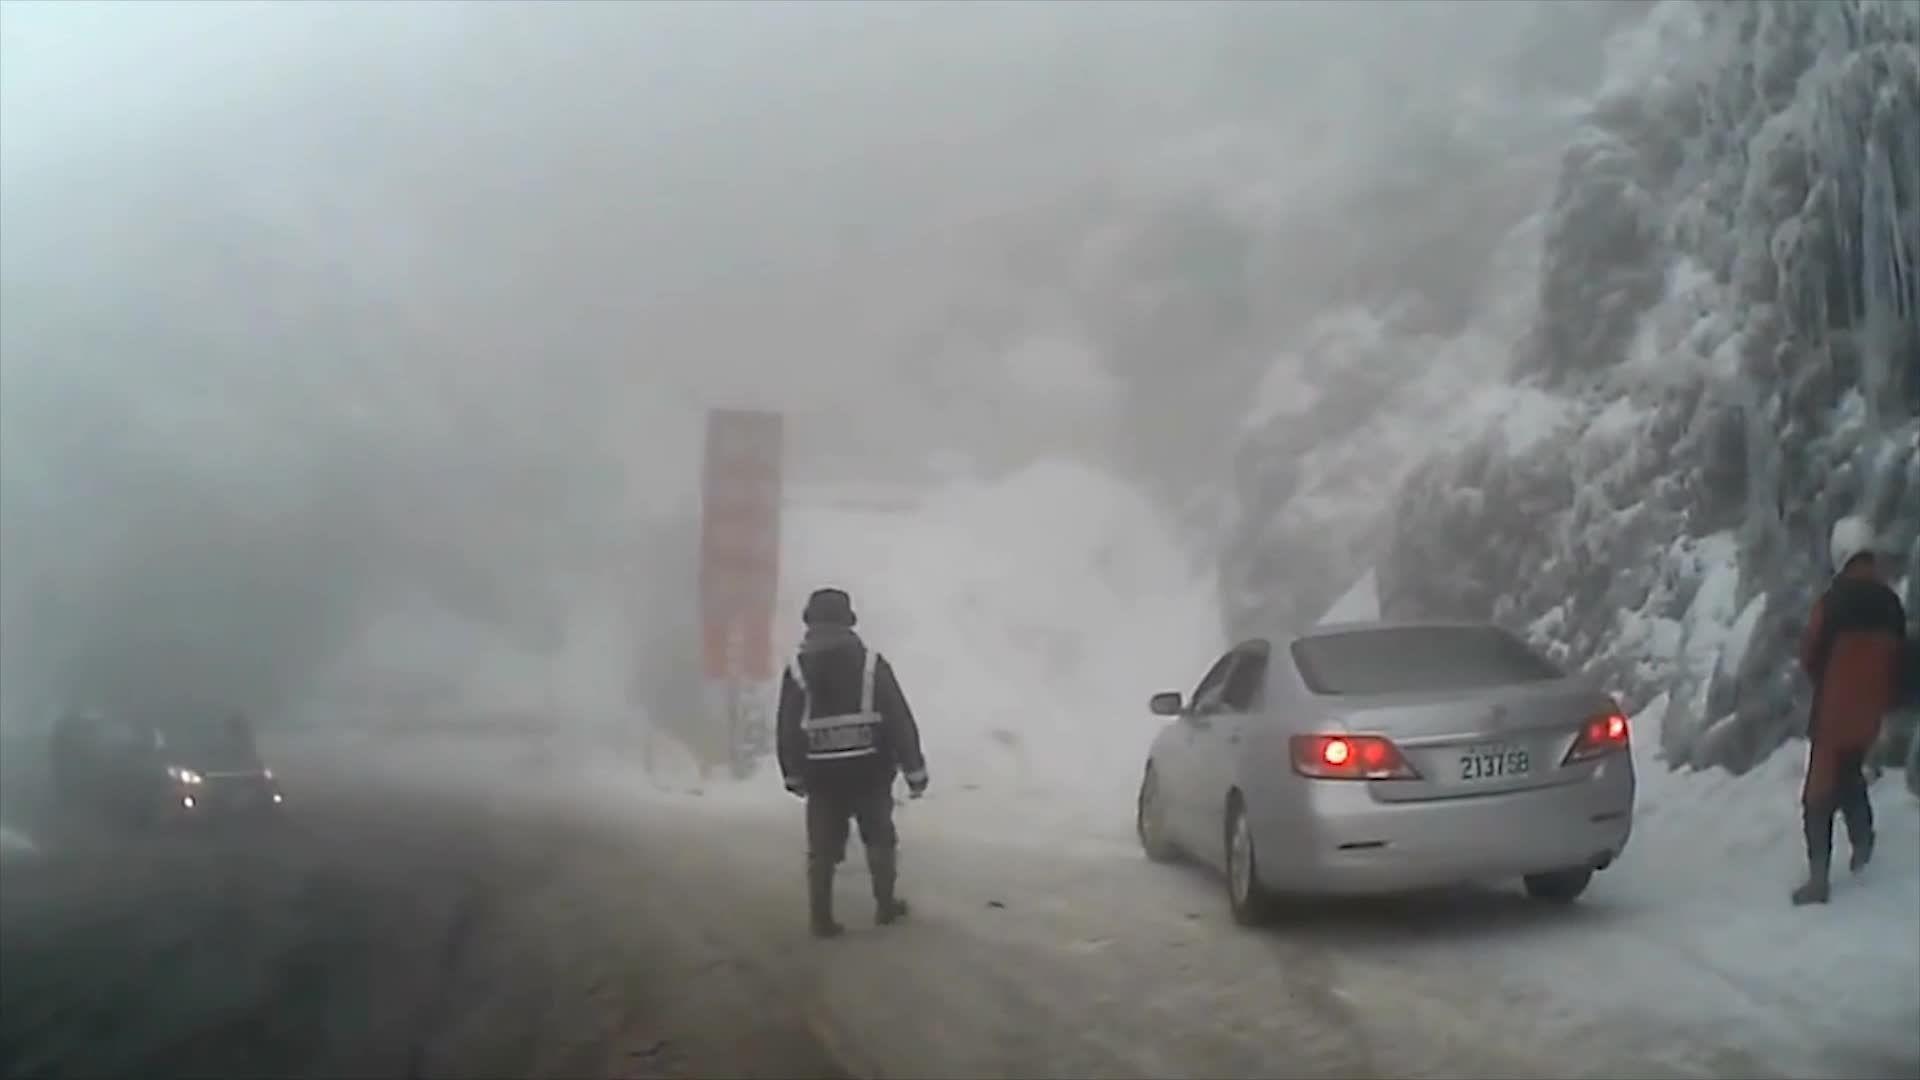pedestrian: (776, 587, 933, 938), (1793, 514, 1913, 907)
vehicle: (1134, 623, 1635, 931), (66, 700, 280, 833)
